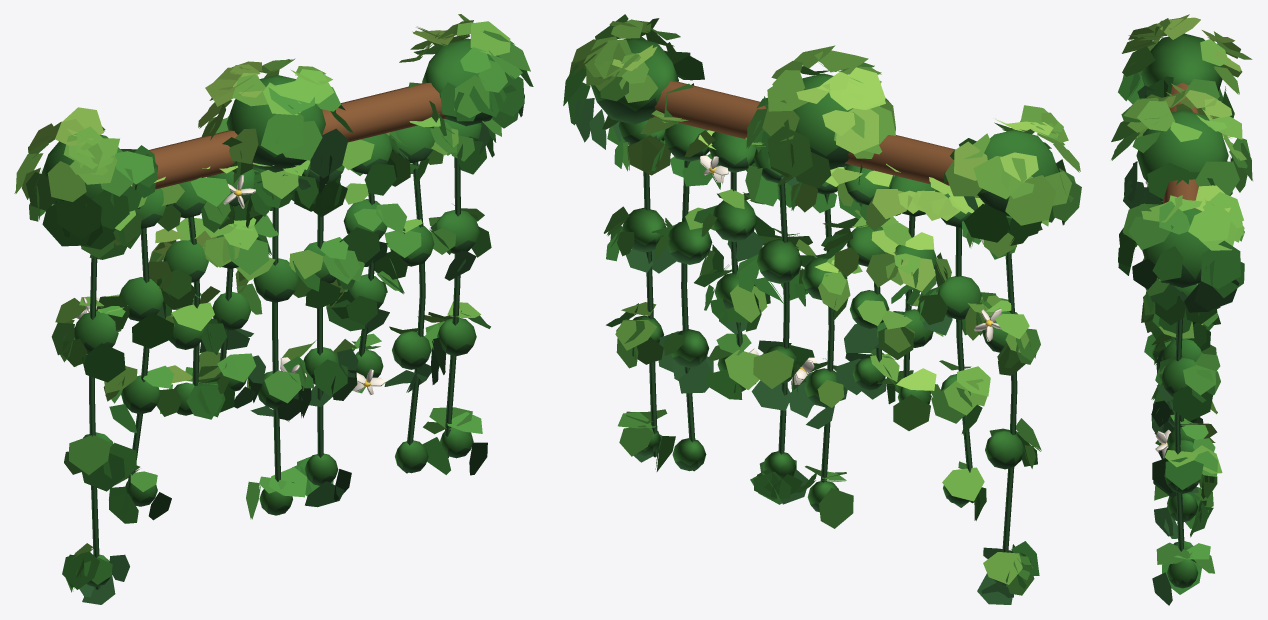
File: VineCurtain.glb
The picture shows the model from 3 angles, left to right: view 1: azimuth 30°, elevation 25°; view 2: azimuth 150°, elevation 25°; view 3: azimuth 270°, elevation 25°; orthographic projection. The views are drawn at different scales.
Parts seen in each view (by area): view 1: Sway, Body; view 2: Sway, Body; view 3: Body, Sway.
Part boxes in pixels (x1=…): Sway: x1=51, y1=117, x2=501, y2=604; Body: x1=14, y1=14, x2=533, y2=395; Sway: x1=602, y1=110, x2=1048, y2=604; Body: x1=563, y1=14, x2=1081, y2=384; Body: x1=1111, y1=14, x2=1252, y2=458; Sway: x1=1141, y1=109, x2=1232, y2=605.
Bounding box in the file's own units: 4.98 × 4.74 × 1.34.
Materials: 2 (2 with a texture image).
